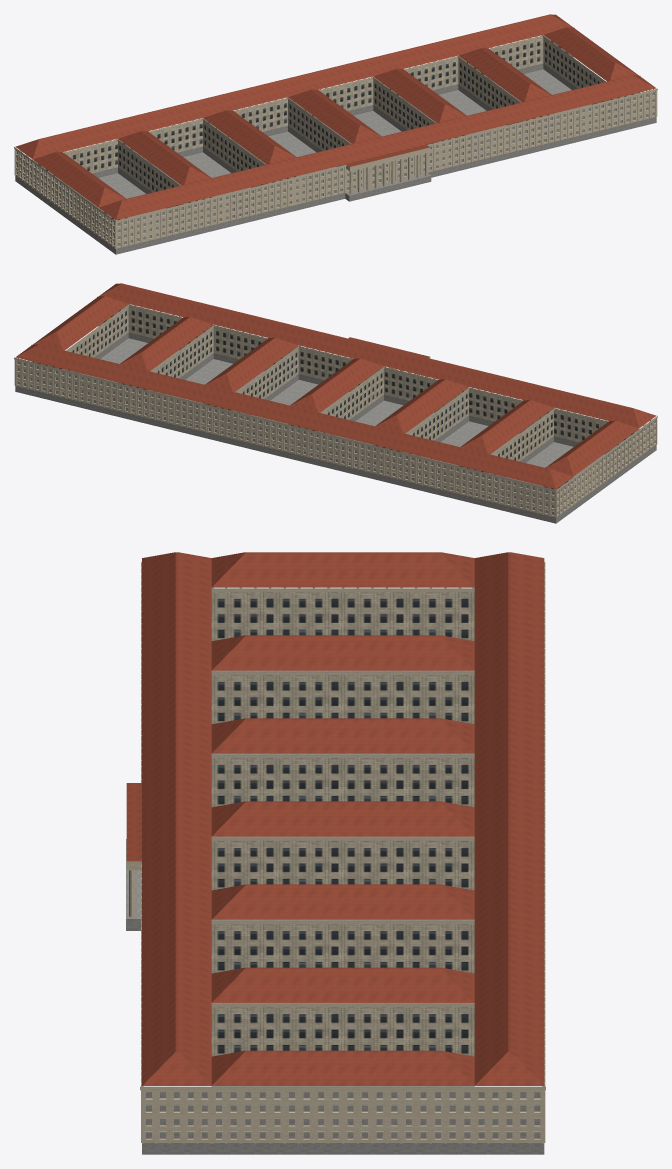
File: commerce_hchb.glb
3 renders of one model, top to bottom at view 1: azimuth 30°, elevation 25°; view 2: azimuth 150°, elevation 25°; view 3: azimuth 270°, elevation 25°, orthographic. The views are drawn at different scales.
Parts seen in each view (by area): view 1: commerce_hchb; view 2: commerce_hchb; view 3: commerce_hchb.
Part boxes in pixels (x1,y1,x2,y2): commerce_hchb: (14,14,657,254); commerce_hchb: (14,283,657,523); commerce_hchb: (126,552,545,1154).
Bounding box in the file's own units: 324 × 25.39 × 109.
Materials: 4 (4 with a texture image).
